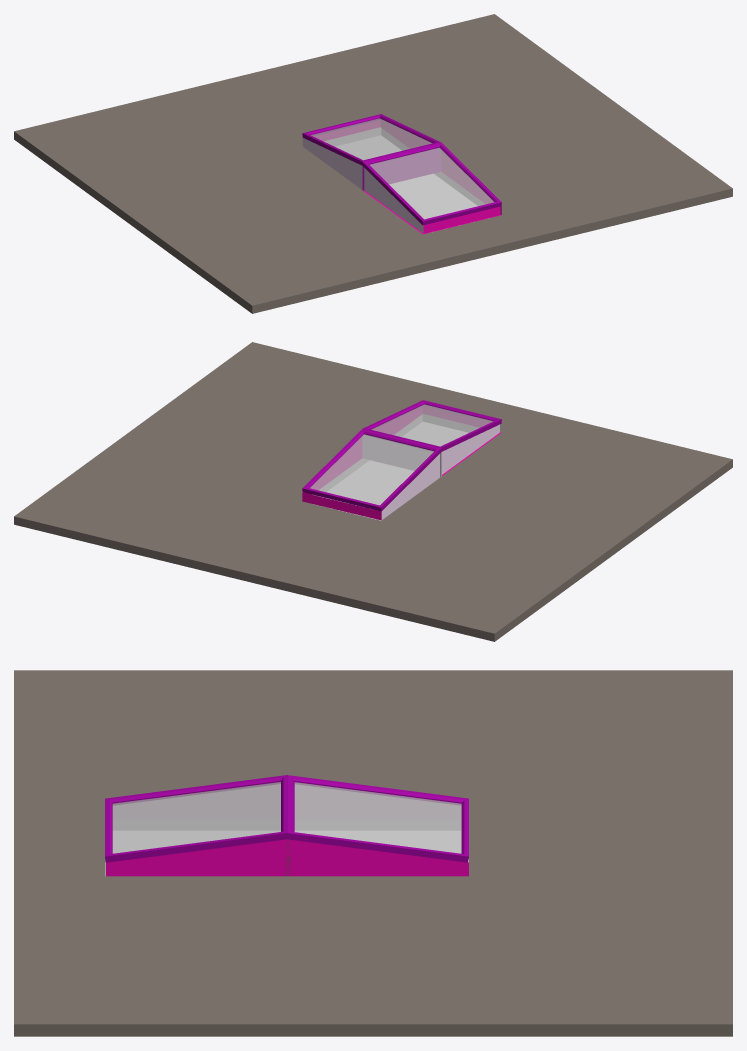
The model's file is 47 skylight gable 2 interior.glb.
The picture shows the model from 3 angles, top to bottom: view 1: azimuth 30°, elevation 25°; view 2: azimuth 150°, elevation 25°; view 3: azimuth 270°, elevation 25°; orthographic projection. The views are drawn at different scales.
Parts seen in each view (by area): view 1: Geom3D (×9); view 2: Geom3D (×9); view 3: Geom3D (×8).
Part boxes in pixels (bbox=[...]): Geom3D (×9): bbox=[14, 14, 732, 313]; Geom3D (×9): bbox=[14, 342, 732, 641]; Geom3D (×8): bbox=[14, 670, 732, 1036].
Size of the model in its own units: 4.67 by 0.3432 by 4.01.
